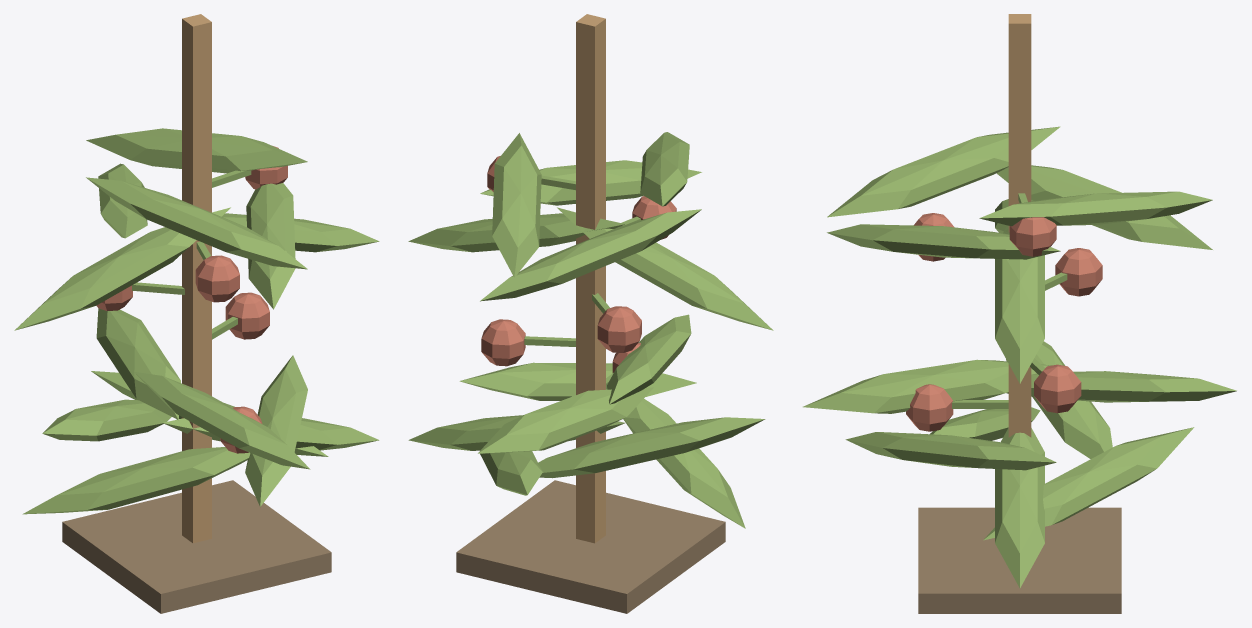
File: cozy-farm-and-homestead-tomato-mature-3fe72bdd__19385.glb
The picture shows the model from 3 angles, left to right: view 1: azimuth 30°, elevation 25°; view 2: azimuth 150°, elevation 25°; view 3: azimuth 270°, elevation 25°; orthographic projection. The views are drawn at different scales.
Parts seen in each view (by area): view 1: tomato-mature; view 2: tomato-mature; view 3: tomato-mature.
Boxes of the visible parts, x1=… form: tomato-mature: x1=14, y1=14, x2=379, y2=613; tomato-mature: x1=408, y1=14, x2=773, y2=613; tomato-mature: x1=803, y1=14, x2=1236, y2=613.
Bounding box in the file's own units: 0.9632 × 1.35 × 0.9652.
